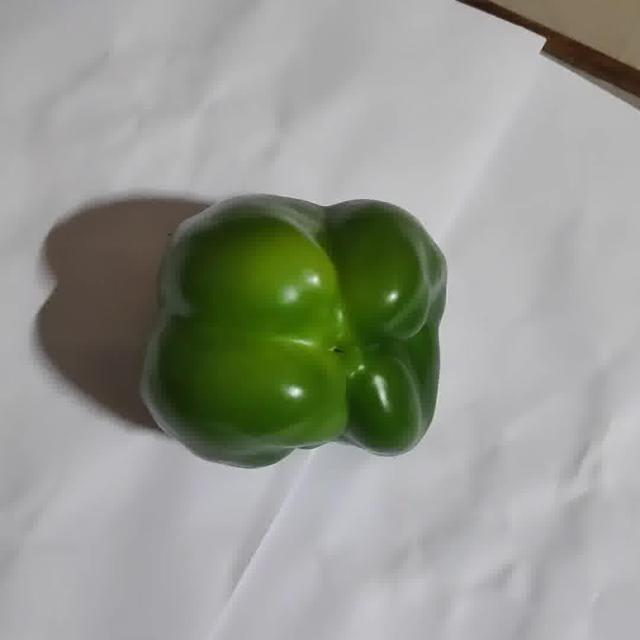Bell Pepper: (143, 196, 445, 467)
